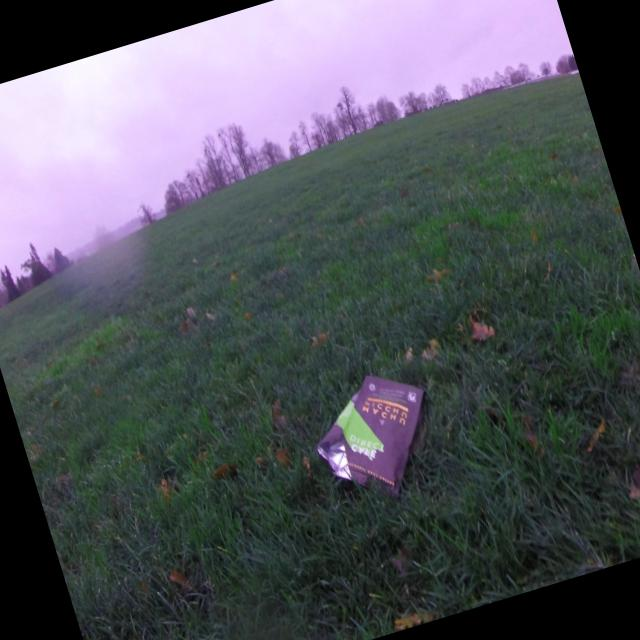less trash: (317, 376, 424, 495)
